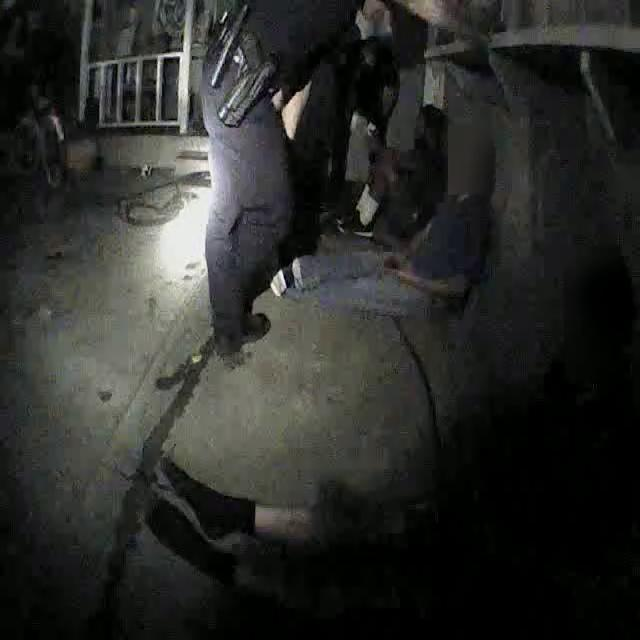gun: (214, 15, 282, 135)
